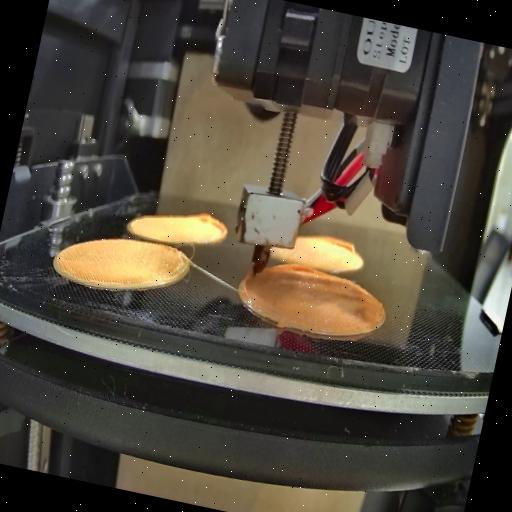over_extrusion: (264, 254, 328, 286), (192, 210, 231, 249), (322, 232, 358, 258), (238, 270, 254, 300)
